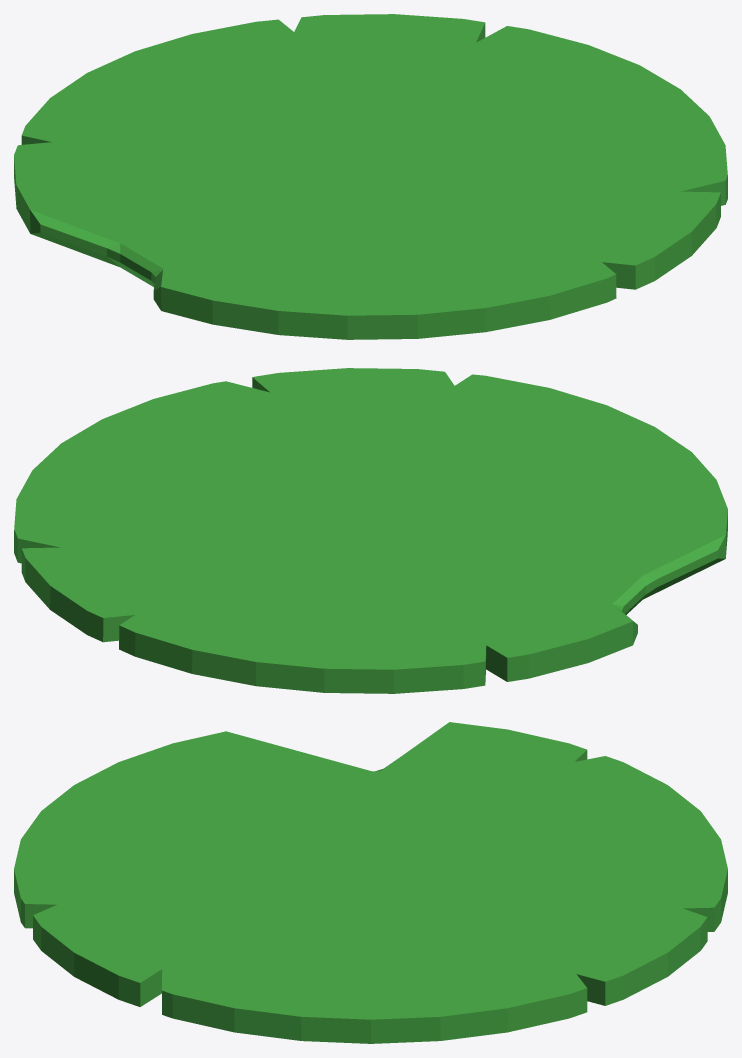
File: nenufar.fbx
The picture shows the model from 3 angles, top to bottom: view 1: azimuth 30°, elevation 25°; view 2: azimuth 150°, elevation 25°; view 3: azimuth 270°, elevation 25°; orthographic projection.
Parts seen in each view (by area): view 1: Circle.001; view 2: Circle.001; view 3: Circle.001.
Part boxes in pixels (x1=…): Circle.001: x1=14, y1=14, x2=727, y2=339; Circle.001: x1=14, y1=368, x2=727, y2=693; Circle.001: x1=14, y1=722, x2=727, y2=1043.
Bounding box in the file's own units: 1105 × 81.74 × 1119.
